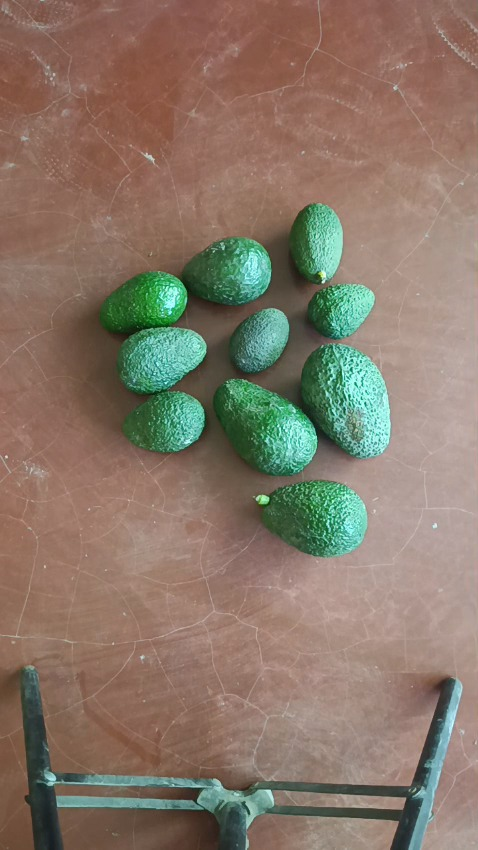Primera: (300, 343, 391, 458), (212, 379, 318, 474), (257, 480, 369, 556)
Segunda: (182, 238, 272, 306), (116, 325, 206, 393), (98, 270, 189, 335), (121, 390, 207, 453)
Tercera: (288, 204, 343, 284), (228, 307, 290, 374), (306, 283, 376, 339)
